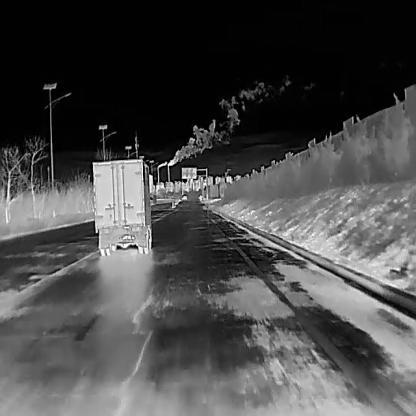car: (91, 158, 156, 255), (180, 193, 187, 199)
